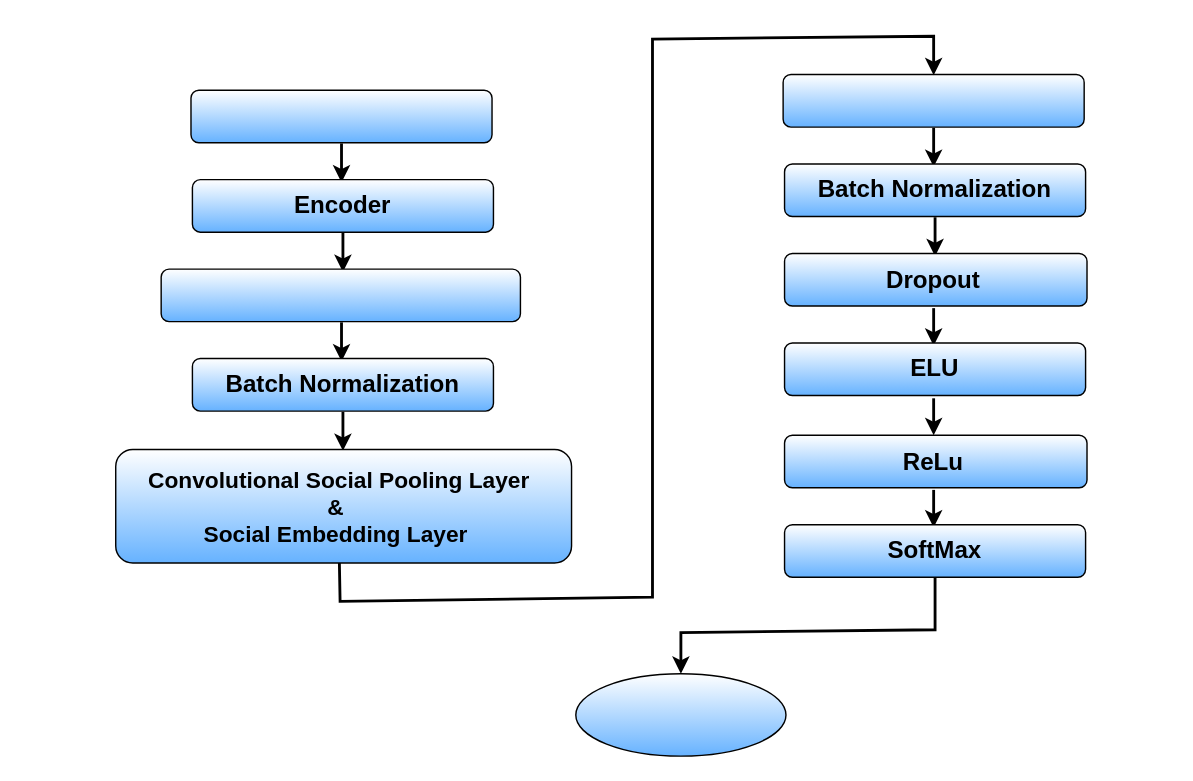
Some shapes in this 1193 by 781 pixel diagram are drawn without their labels. Here are the shapes that lost their labels. From the top down, the box of each, then its label:
(190, 89, 492, 143): Input Embedding Layer
(782, 73, 1084, 127): Decoder
(160, 268, 520, 322): Vehicles Dynamics Embedding
(574, 672, 786, 756): Output
